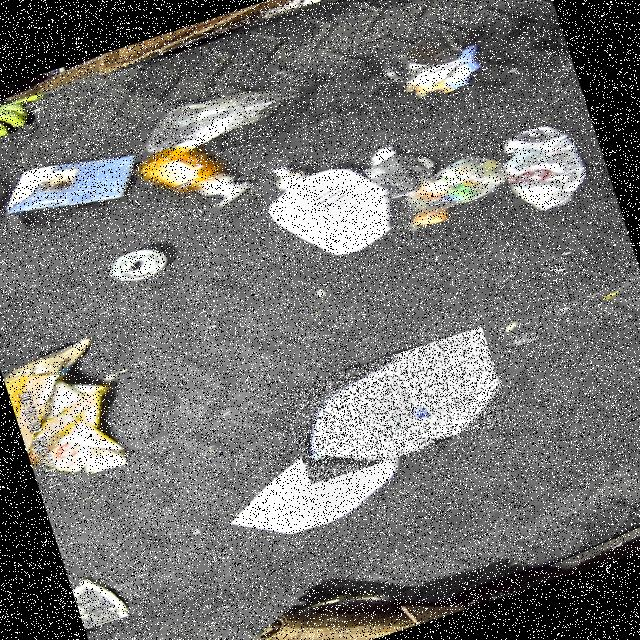milk-jug: (279, 326, 512, 486)
